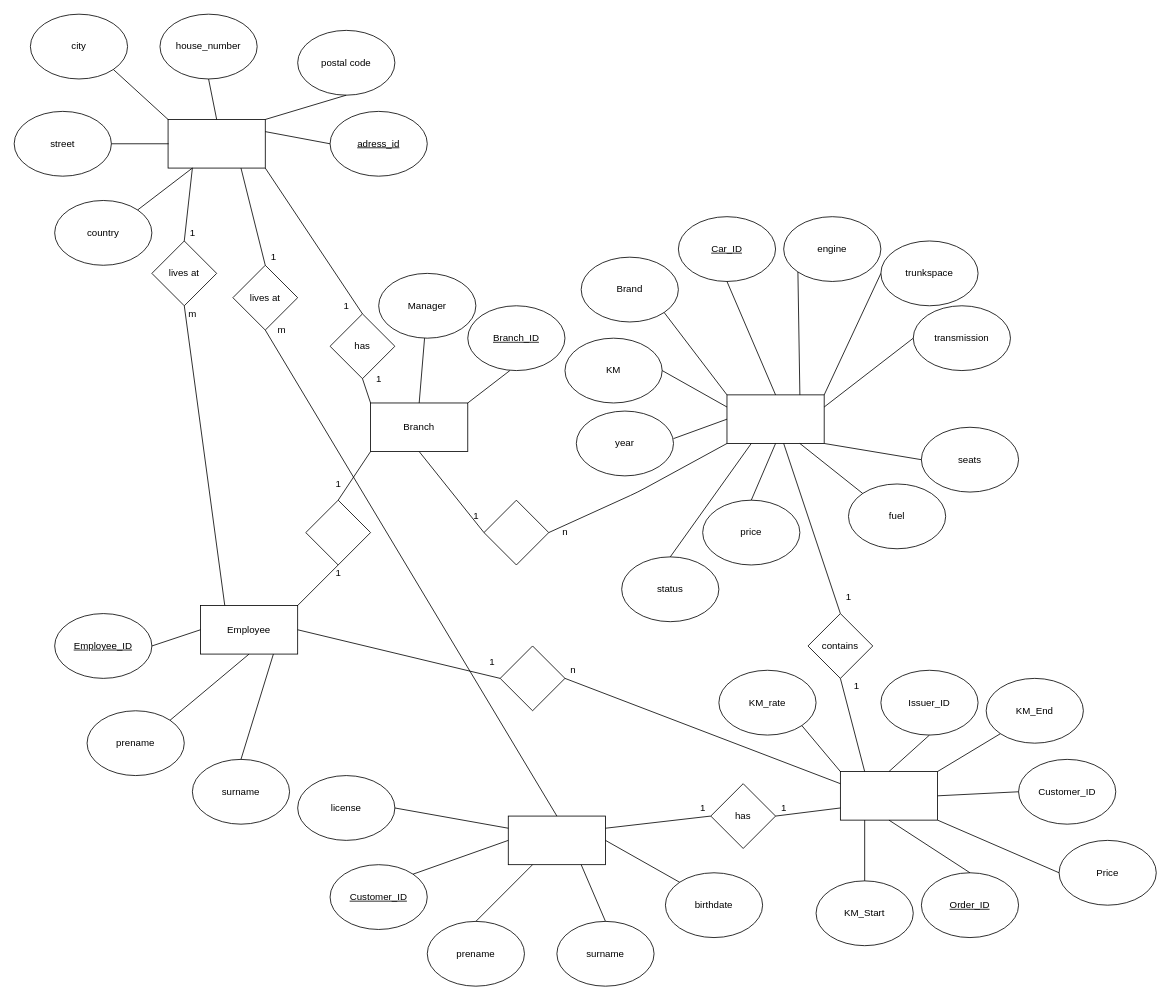
Image size: 1170x1000. Some labels were removed from this diagram. Here are the shapes that lost their labels. From the top down, the box of each, then its label:
(167, 119, 265, 168): Address
(726, 394, 824, 443): Car
(305, 499, 371, 565): works
(483, 499, 549, 565): is stored at
(499, 645, 565, 711): issues
(840, 771, 938, 820): Order
(507, 815, 605, 865): Customer
